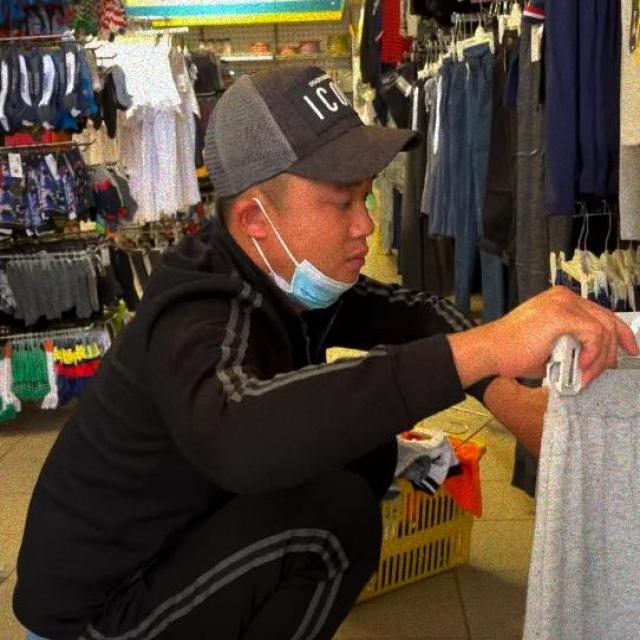hairnet: (287, 185, 373, 306)
